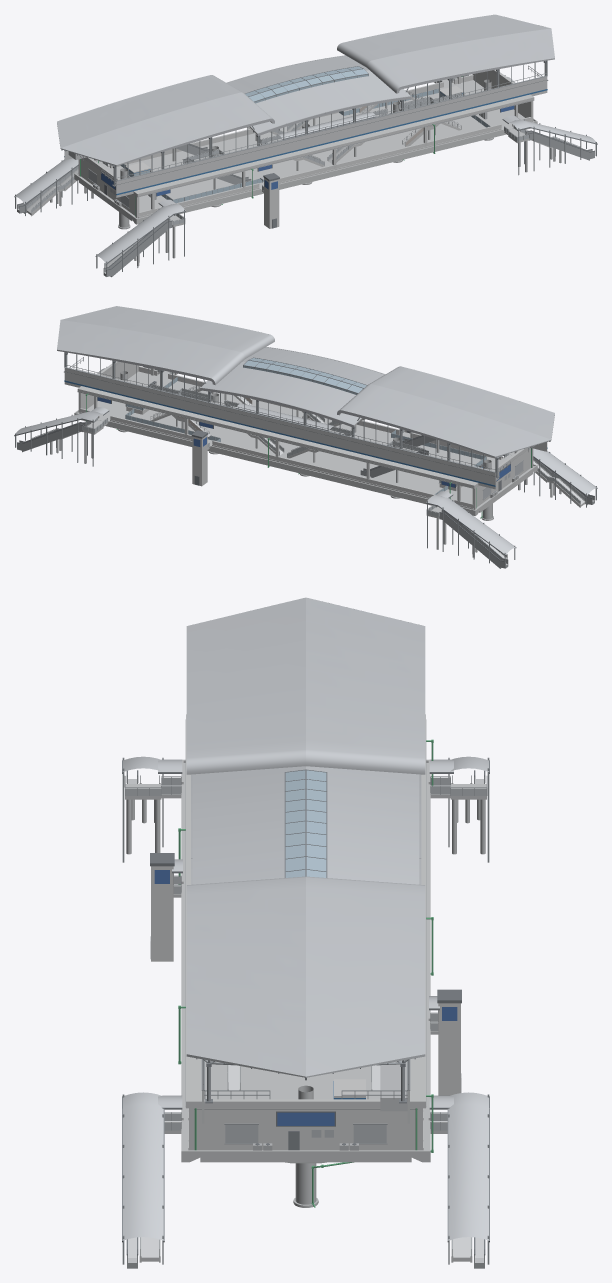
The picture shows the model from 3 angles, top to bottom: view 1: azimuth 30°, elevation 25°; view 2: azimuth 150°, elevation 25°; view 3: azimuth 270°, elevation 25°; orthographic projection. The views are drawn at different scales.
Visible parts, largest first — view 1: BL07, BL07_conc, BL07_access; view 2: BL07, BL07_conc, BL07_access; view 3: BL07, BL07_access, BL07_conc.
Boxes of the visible parts, x1,y1,x2,y2 form: BL07: [57, 14, 554, 197]; BL07_conc: [74, 69, 537, 229]; BL07_access: [14, 75, 597, 277]; BL07: [57, 306, 554, 489]; BL07_conc: [74, 361, 537, 520]; BL07_access: [14, 366, 597, 568]; BL07: [186, 597, 425, 1123]; BL07_access: [122, 739, 489, 1268]; BL07_conc: [181, 714, 430, 1207].
Bounding box in the file's own units: 131 × 28 × 42.5.
